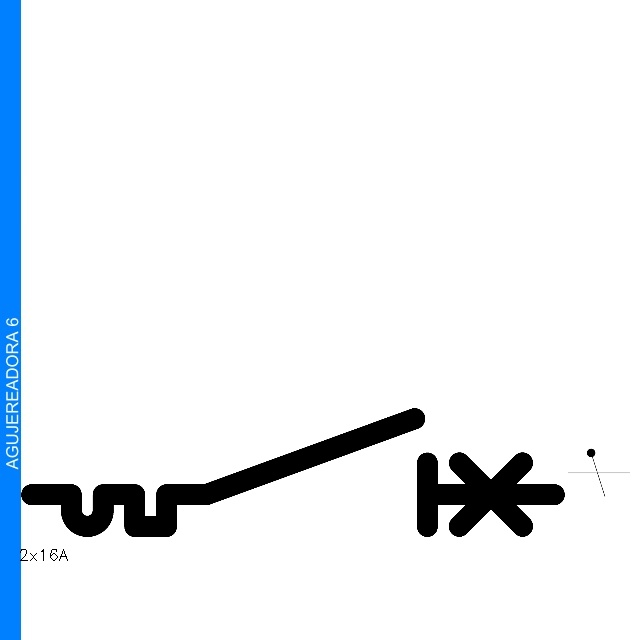interruptor_termomagnetico: (18, 405, 568, 540)
